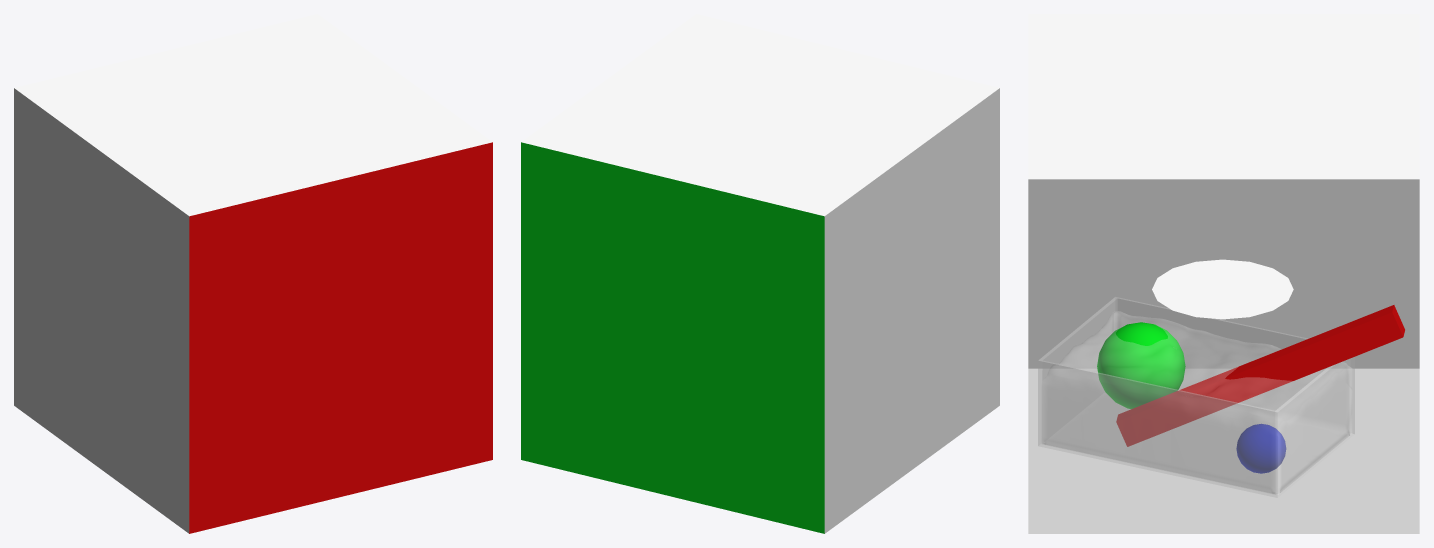
The model's file is aquarium.glb.
3 renders of one model, left to right at view 1: azimuth 30°, elevation 25°; view 2: azimuth 150°, elevation 25°; view 3: azimuth 270°, elevation 25°, orthographic. The views are drawn at different scales.
Parts seen in each view (by area): view 1: left, back, ceiling; view 2: right, back, ceiling; view 3: ceiling, back, floor, fishTank, water, rod, Circle, sphere.001, sphere.
Boxes of the visible parts, box(x1,y1,x2,y2) form: left: box(189, 142, 492, 533); back: box(14, 88, 189, 533); ceiling: box(14, 14, 492, 216); right: box(521, 142, 824, 533); back: box(824, 88, 999, 533); ceiling: box(521, 14, 999, 216); ceiling: box(1028, 14, 1419, 179); back: box(1028, 179, 1419, 368); floor: box(1028, 368, 1419, 533); fishTank: box(1038, 297, 1354, 497); water: box(1041, 311, 1351, 494); rod: box(1116, 305, 1404, 446); Circle: box(1152, 259, 1293, 319); sphere.001: box(1097, 322, 1185, 408); sphere: box(1236, 424, 1285, 473).
Bounding box in the file's own units: 2 × 2 × 2.
